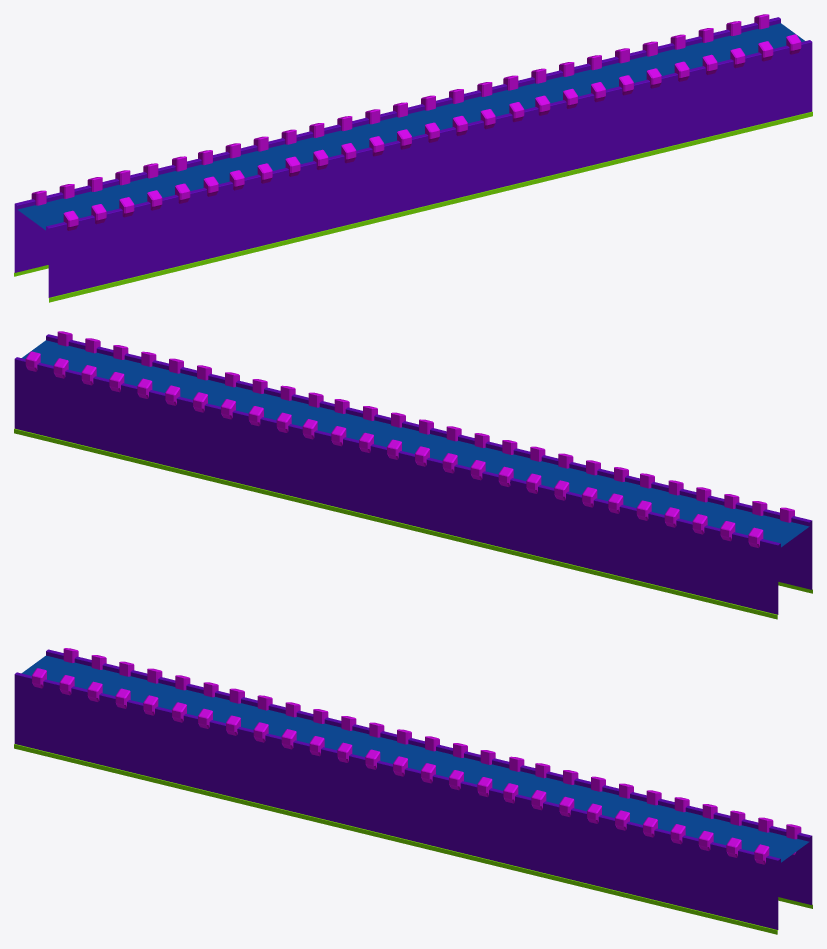
The model's file is Waal50.fbx.
The picture shows the model from 3 angles, top to bottom: view 1: azimuth 30°, elevation 25°; view 2: azimuth 150°, elevation 25°; view 3: azimuth 330°, elevation 25°; orthographic projection.
Visible parts, largest first — view 1: Wall50_LOD0; view 2: Wall50_LOD0; view 3: Wall50_LOD0.
Part boxes in pixels (bbox=[...]): Wall50_LOD0: bbox=[14, 14, 812, 302]; Wall50_LOD0: bbox=[14, 331, 812, 619]; Wall50_LOD0: bbox=[14, 648, 812, 934].
Size of what is drawn, in the model's own units: 5000 by 515 by 427.
